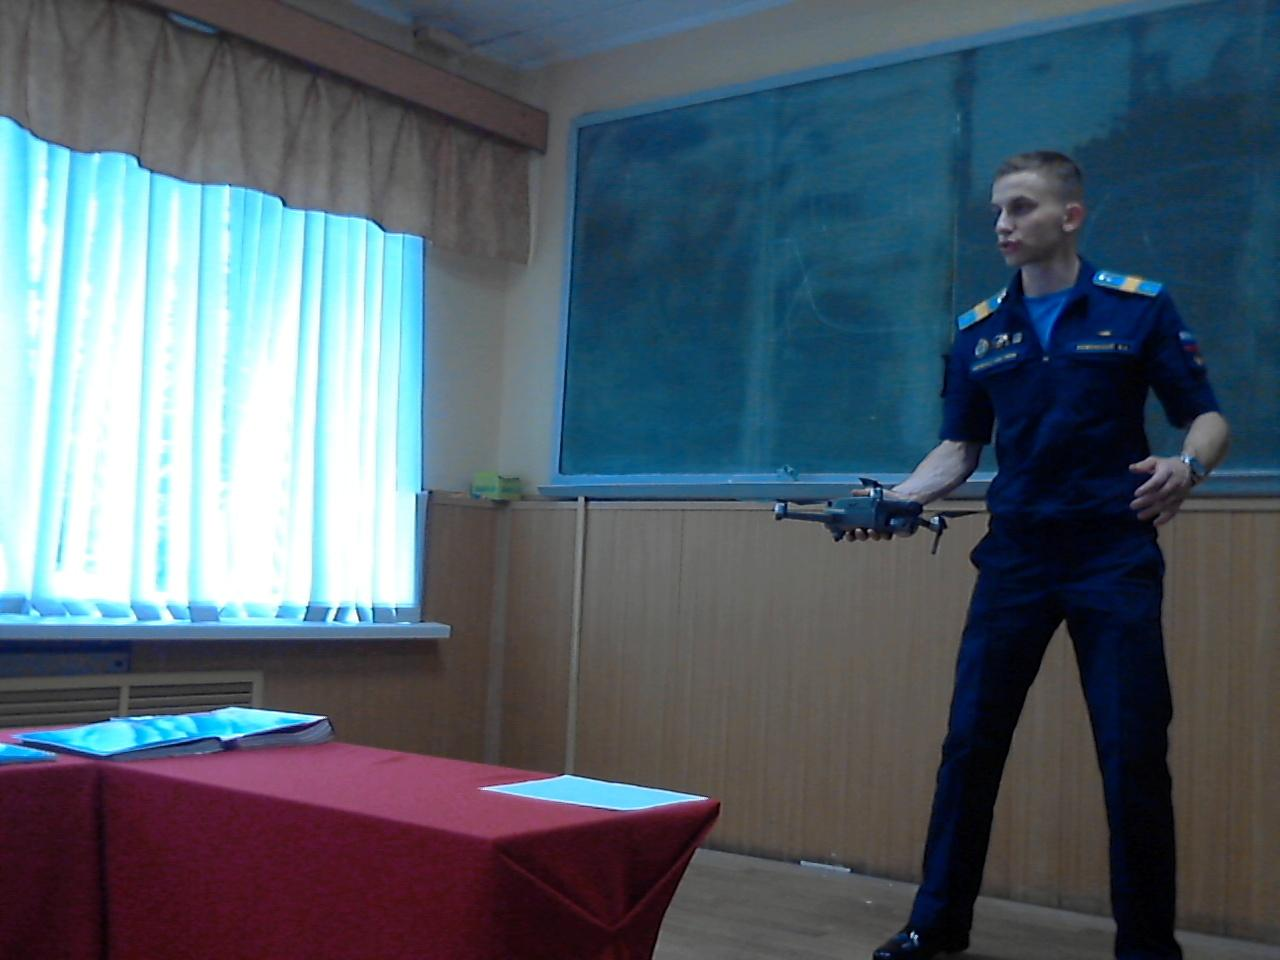drone: (760, 448, 986, 579)
